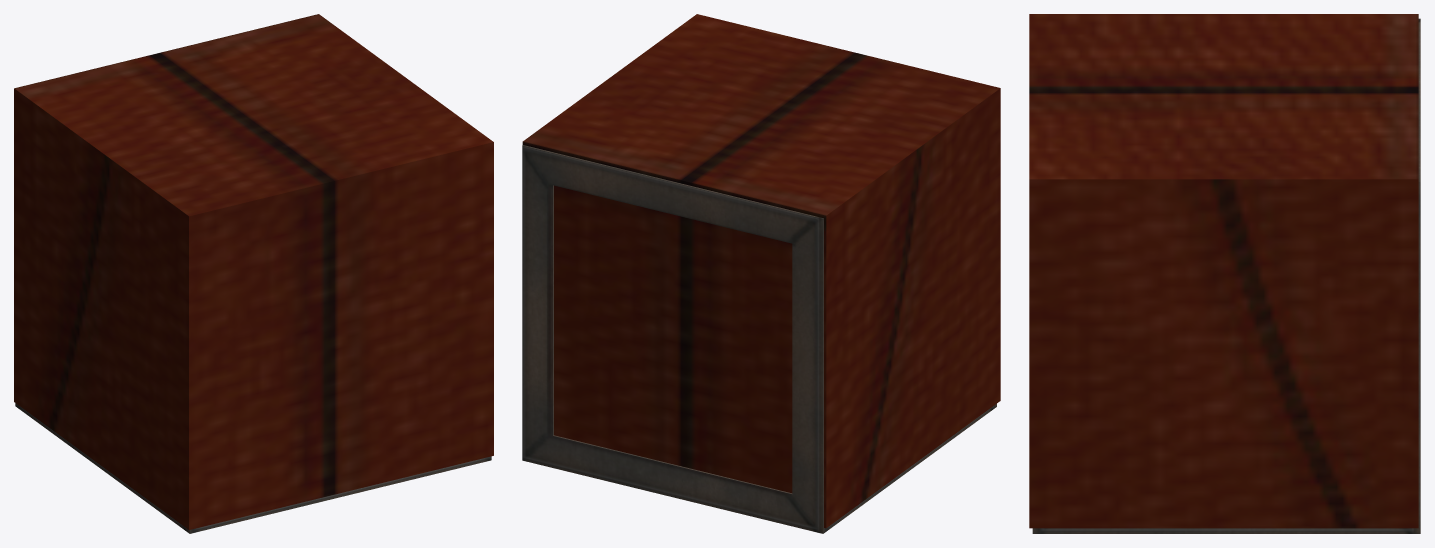
File: gCrate.fbx
3 views of the same model, side by side, from view 1: azimuth 30°, elevation 25°; view 2: azimuth 150°, elevation 25°; view 3: azimuth 270°, elevation 25° (orthographic). The views are drawn at different scales.
Visible parts, largest first — view 1: pasted__pCube1, gCrate_Mesh01; view 2: pasted__pCube1, gCrate_Mesh01; view 3: pasted__pCube1, gCrate_Mesh01.
Boxes of the visible parts, <box> form: pasted__pCube1: <box>14,14,493,529</box>; gCrate_Mesh01: <box>15,403,491,533</box>; pasted__pCube1: <box>522,14,1000,528</box>; gCrate_Mesh01: <box>522,145,996,533</box>; pasted__pCube1: <box>1029,14,1418,528</box>; gCrate_Mesh01: <box>1032,18,1420,533</box>.
Size of the model in its own units: 2.15 by 2.16 by 2.15.
Materials: 2 (2 with a texture image).
